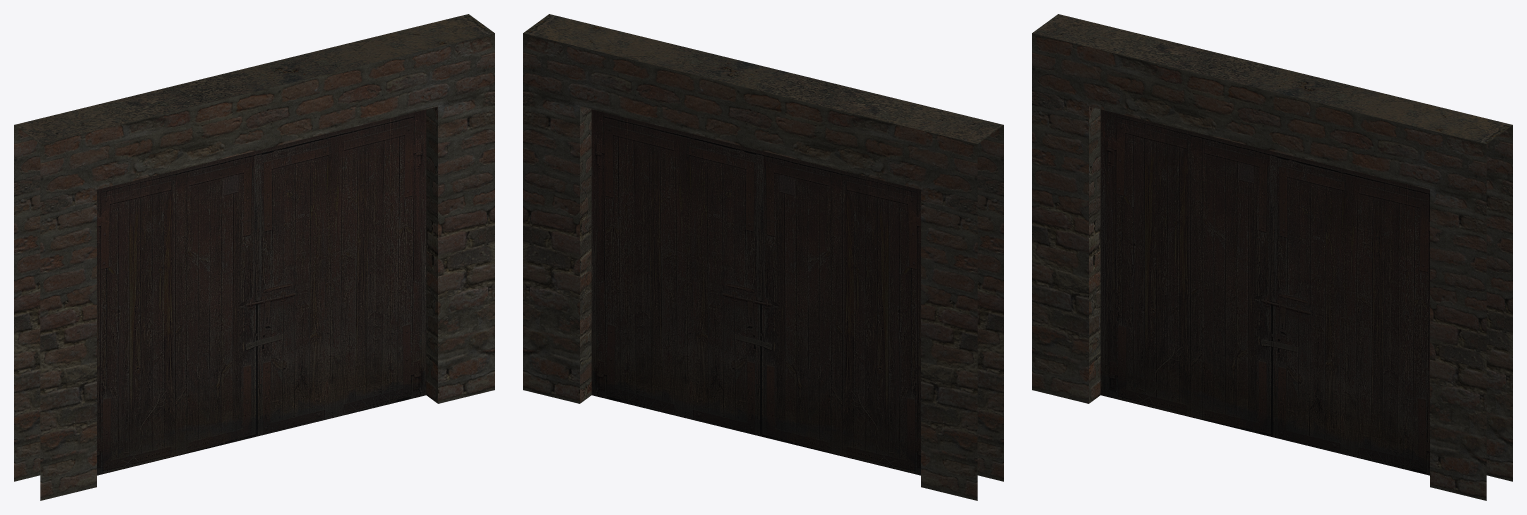
File: garage_door_frame_hr_2.obj
The picture shows the model from 3 angles, left to right: view 1: azimuth 30°, elevation 25°; view 2: azimuth 150°, elevation 25°; view 3: azimuth 330°, elevation 25°; orthographic projection.
Parts seen in each view (by area): view 1: garage_door_hm_5, garage_door_frame_hr_2; view 2: garage_door_hm_5, garage_door_frame_hr_2; view 3: garage_door_hm_5, garage_door_frame_hr_2.
Part boxes in pixels (box(x1,y1,x2,y2)): garage_door_hm_5: box(97, 109, 426, 475); garage_door_frame_hr_2: box(14, 14, 494, 500); garage_door_hm_5: box(591, 109, 920, 475); garage_door_frame_hr_2: box(523, 14, 1003, 500); garage_door_hm_5: box(1100, 109, 1429, 475); garage_door_frame_hr_2: box(1032, 14, 1512, 500).
Size of the model in its own units: 4 by 3 by 0.4.
